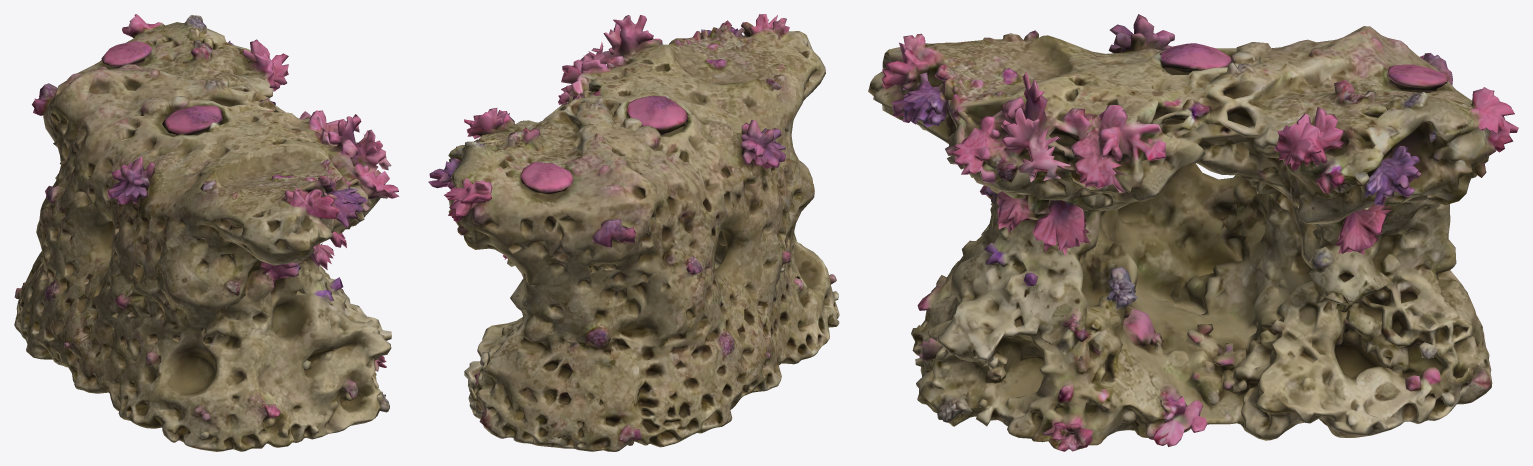
File: rock_e.glb
3 renders of one model, left to right at view 1: azimuth 30°, elevation 25°; view 2: azimuth 150°, elevation 25°; view 3: azimuth 270°, elevation 25°, orthographic. The views are drawn at different scales.
Parts seen in each view (by area): view 1: tripo_node_a2a04708-afc4-4d7b-9851-3f7f06f64d53; view 2: tripo_node_a2a04708-afc4-4d7b-9851-3f7f06f64d53; view 3: tripo_node_a2a04708-afc4-4d7b-9851-3f7f06f64d53.
Boxes of the visible parts, bbox=[...] form: tripo_node_a2a04708-afc4-4d7b-9851-3f7f06f64d53: bbox=[14, 14, 399, 451]; tripo_node_a2a04708-afc4-4d7b-9851-3f7f06f64d53: bbox=[428, 14, 839, 451]; tripo_node_a2a04708-afc4-4d7b-9851-3f7f06f64d53: bbox=[868, 14, 1518, 451].
Size of the model in its own units: 0.5882 by 0.5962 by 1.
Materials: 1 (1 with a texture image).
